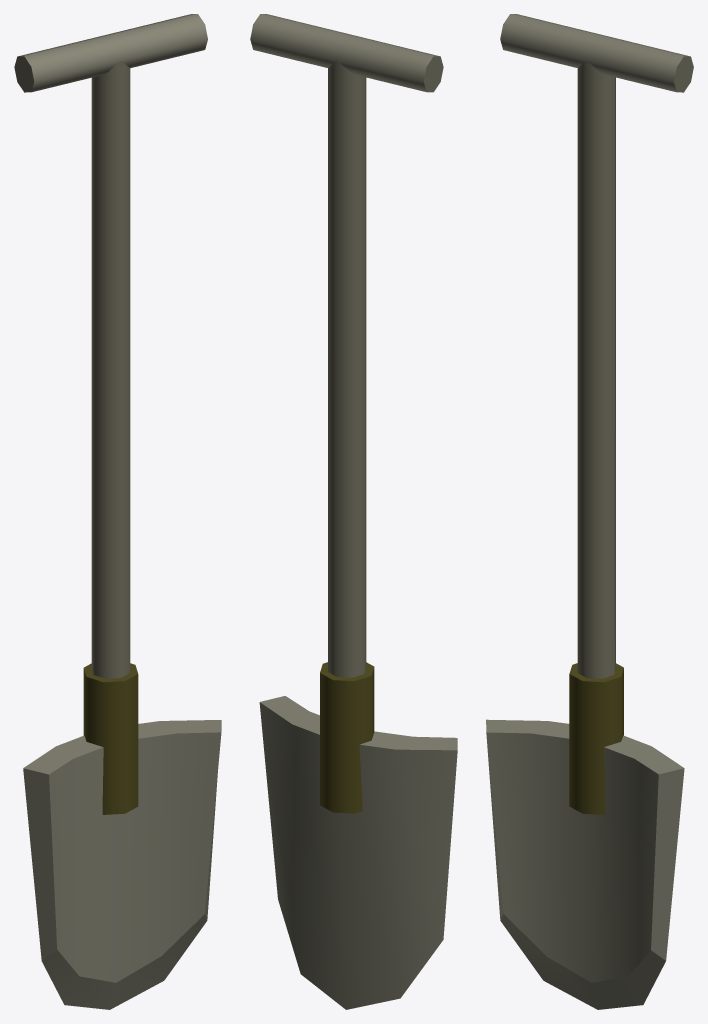
The model's file is Prop_Shovel_01.fbx.
The picture shows the model from 3 angles, left to right: view 1: azimuth 30°, elevation 25°; view 2: azimuth 150°, elevation 25°; view 3: azimuth 330°, elevation 25°; orthographic projection.
Parts seen in each view (by area): view 1: Prop_Shovel_01; view 2: Prop_Shovel_01; view 3: Prop_Shovel_01.
Part boxes in pixels (x1,y1,x2,y2): Prop_Shovel_01: (14, 14, 221, 1009); Prop_Shovel_01: (250, 14, 457, 1009); Prop_Shovel_01: (486, 14, 693, 1009).
Bounding box in the file's own units: 26.17 × 123 × 8.78.
